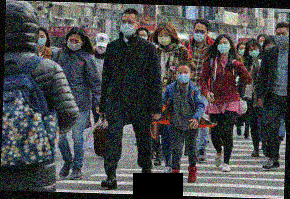with_mask: (120, 18, 137, 38), (192, 28, 208, 43), (216, 40, 231, 56), (274, 31, 289, 47), (67, 37, 82, 52), (157, 32, 172, 47), (176, 69, 190, 84), (35, 34, 48, 48), (248, 46, 261, 59), (95, 44, 107, 55), (237, 46, 248, 58), (138, 32, 149, 42), (258, 39, 266, 47)
